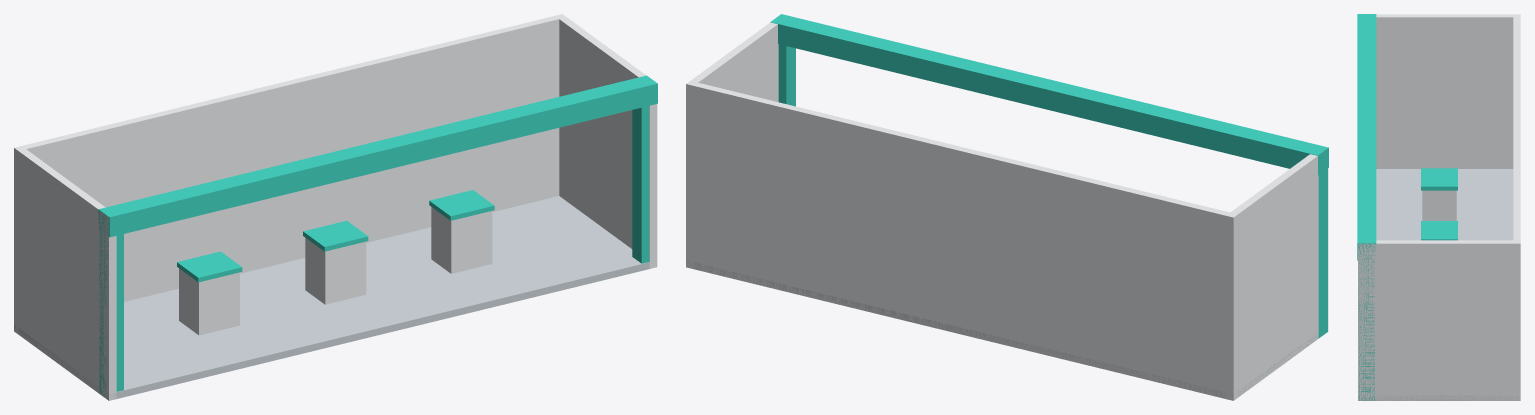
3 renders of one model, left to right at view 1: azimuth 30°, elevation 25°; view 2: azimuth 150°, elevation 25°; view 3: azimuth 270°, elevation 25°, orthographic. The views are drawn at different scales.
Visible parts, largest first — view 1: Exhibition Booth Concept; view 2: Exhibition Booth Concept; view 3: Exhibition Booth Concept.
Boxes of the visible parts, x1,y1,x2,y2 form: Exhibition Booth Concept: (14,14,657,400); Exhibition Booth Concept: (686,14,1328,400); Exhibition Booth Concept: (1357,14,1520,400).
Size of the model in its own units: 10 by 3.2 by 3.01.
